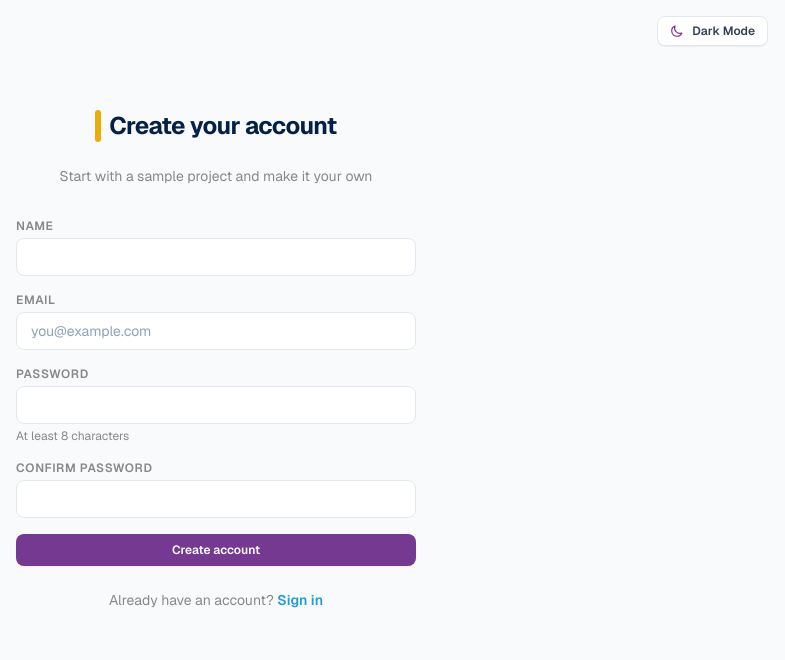
Test case: RegisterForm › shows the server error when registration fails
Type "Ada" into the field labelled "Name" at (216, 257), box [16,238,416,276]
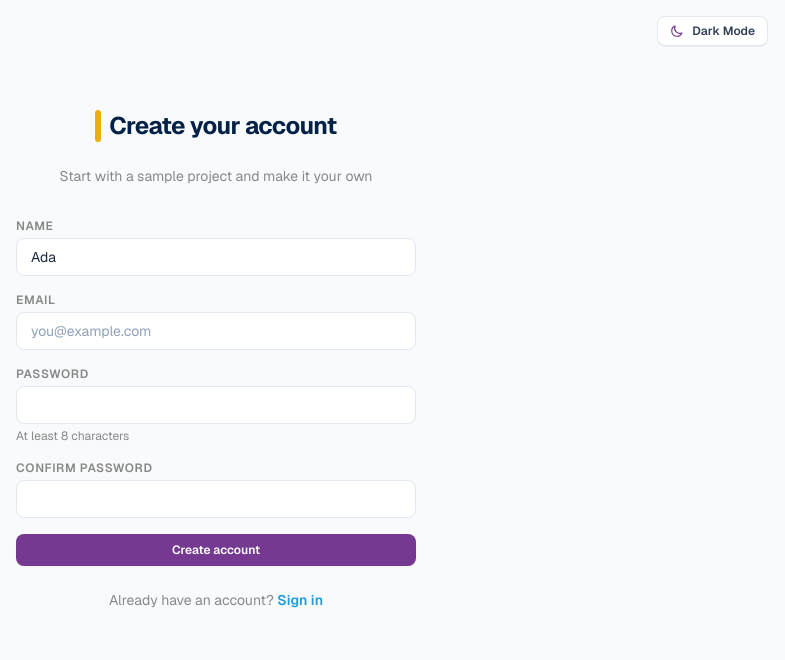
Type "ada@example.com" into the field labelled "Email" at (216, 331), box [16,312,416,350]
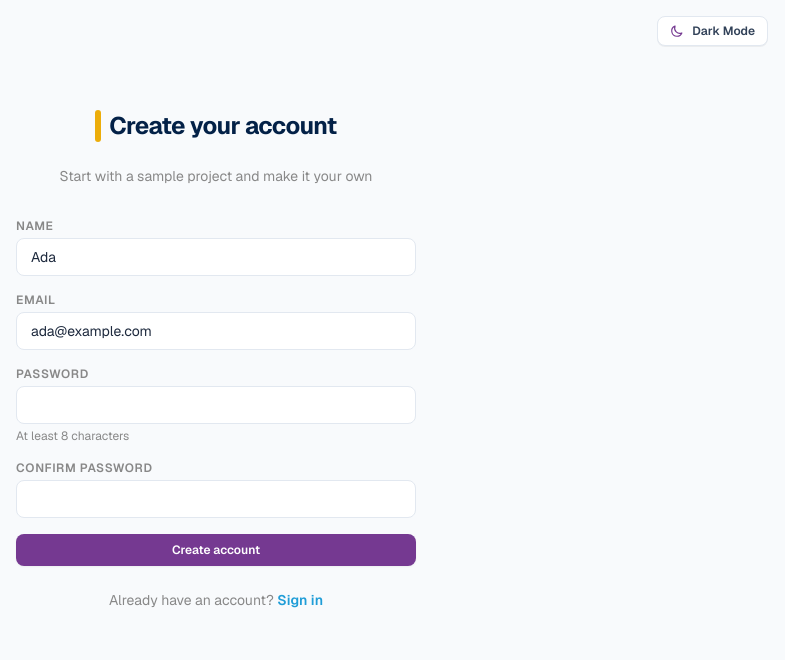
Type "analytical1" into the password field labelled "Password" at (216, 405), box [16,386,416,424]
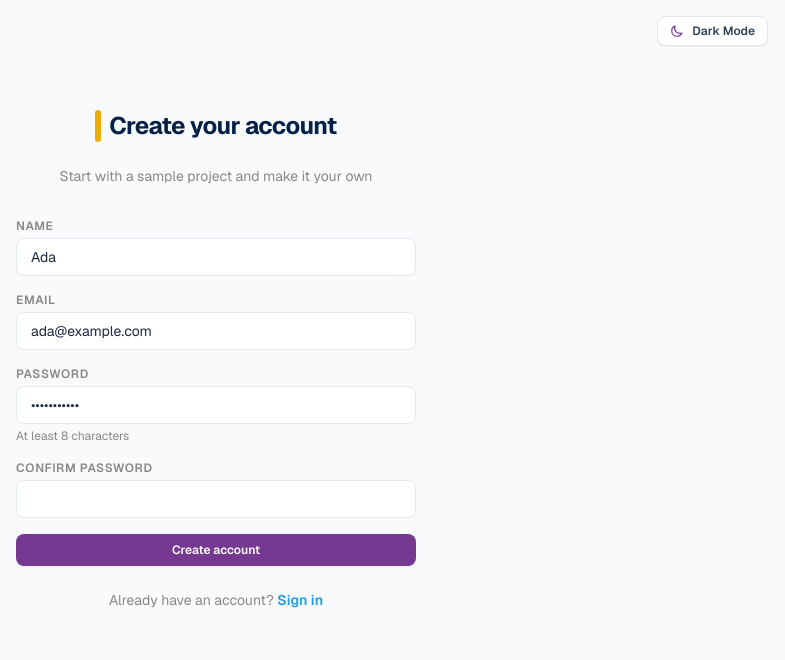
Type "analytical1" into the password field labelled "Confirm password" at (216, 499), box [16,480,416,518]
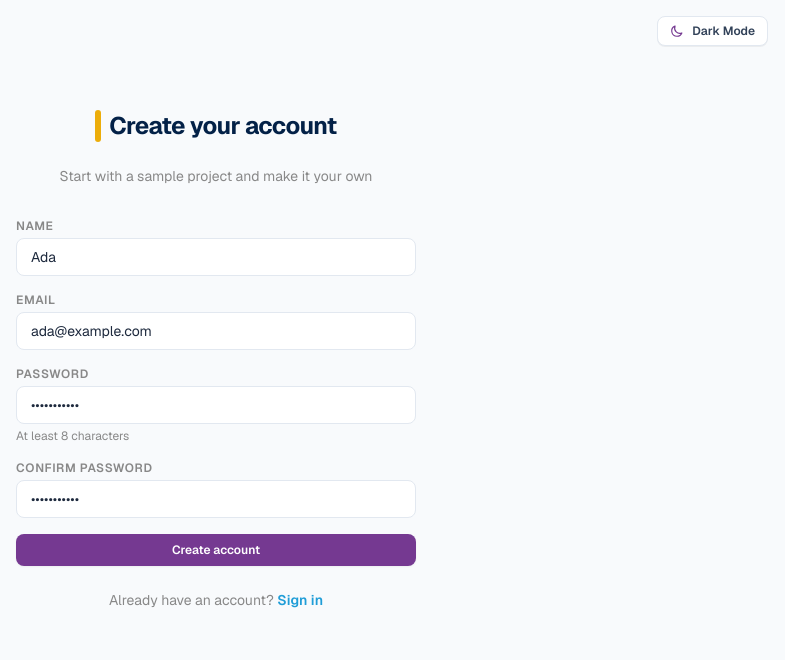
Click the button "Create account" at (216, 550), box [16,534,416,566]
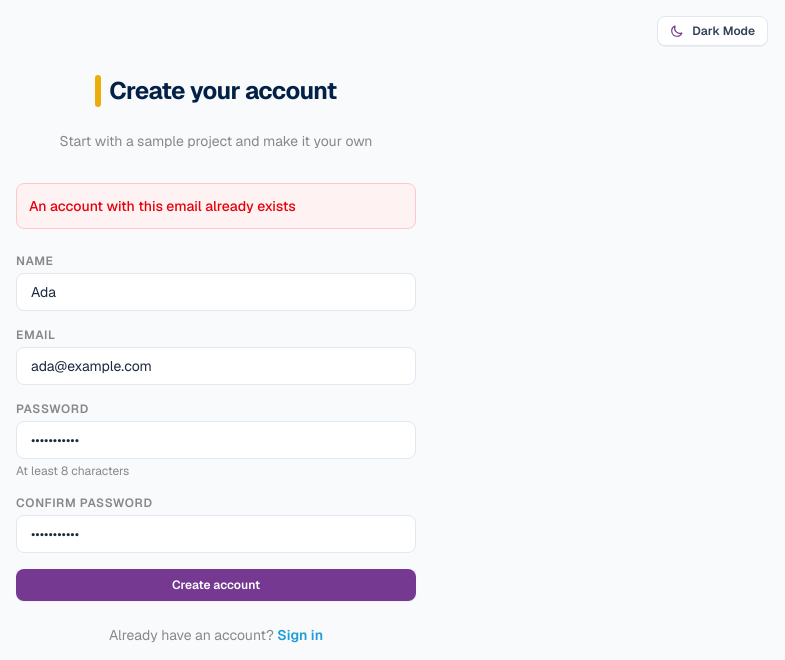
Expected: the message reads "An account with this email already exists", [29,197,296,215]
